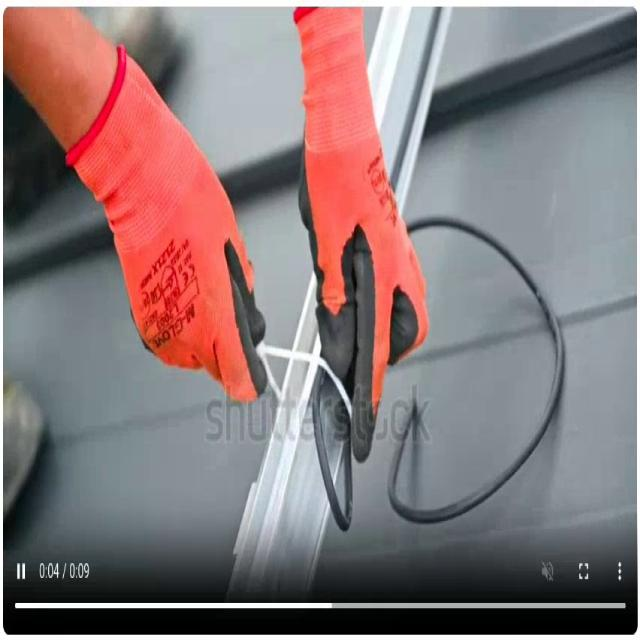gloved: (65, 42, 268, 404), (292, 6, 429, 462)
